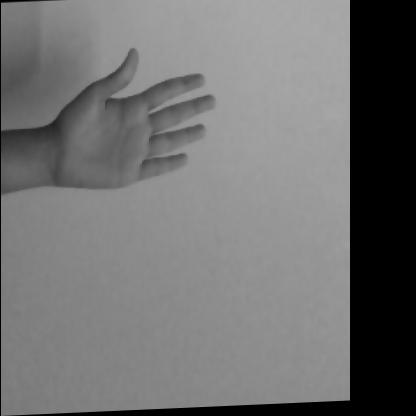palm: (35, 34, 233, 215)
